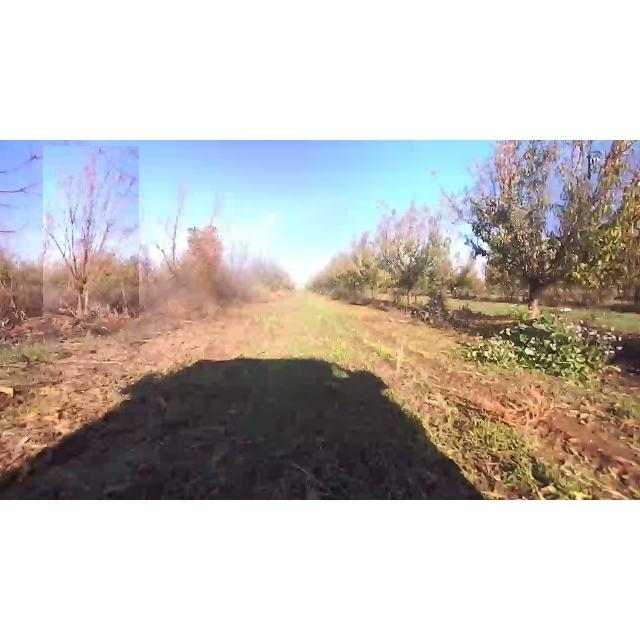direk: (460, 141, 640, 325), (43, 146, 139, 318), (368, 192, 456, 320), (165, 176, 231, 304)
